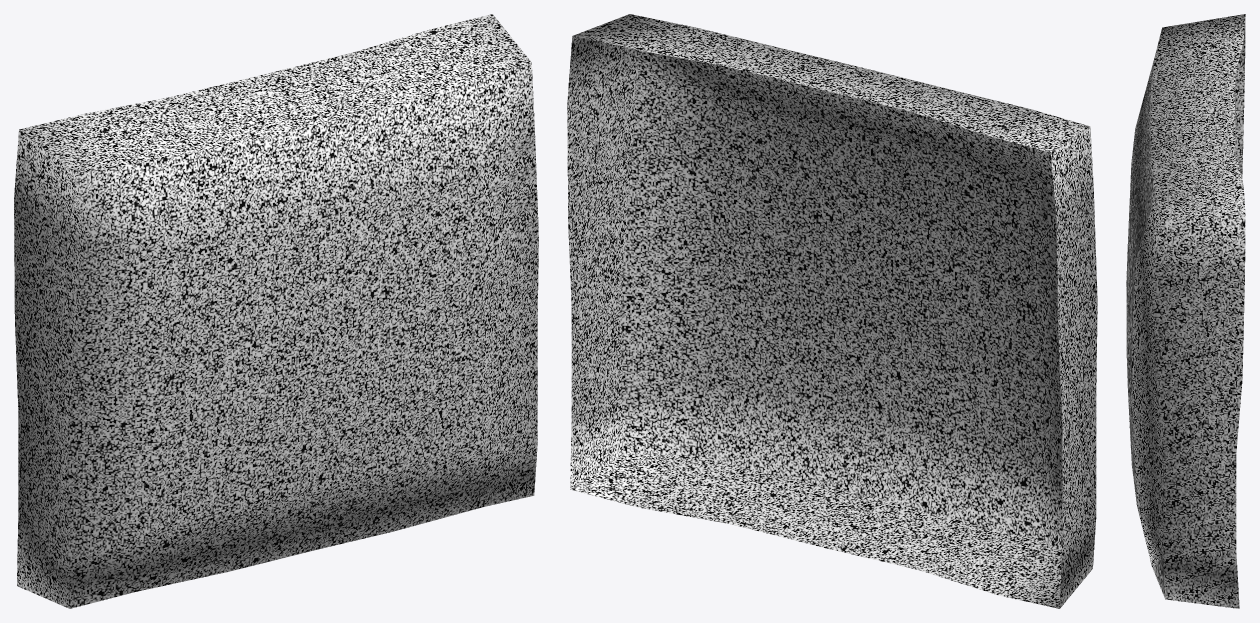
Rendered from VFX_TvScreen.fbx.
3 views of the same model, side by side, from view 1: azimuth 30°, elevation 25°; view 2: azimuth 150°, elevation 25°; view 3: azimuth 270°, elevation 25° (orthographic). The views are drawn at different scales.
Parts seen in each view (by area): view 1: polySurface26; view 2: polySurface26; view 3: polySurface26.
Boxes of the visible parts, bbox=[...] form: polySurface26: bbox=[14, 14, 538, 608]; polySurface26: bbox=[567, 14, 1097, 608]; polySurface26: bbox=[1126, 14, 1245, 608].
Bounding box in the file's own units: 58.02 × 52.34 × 14.21.
